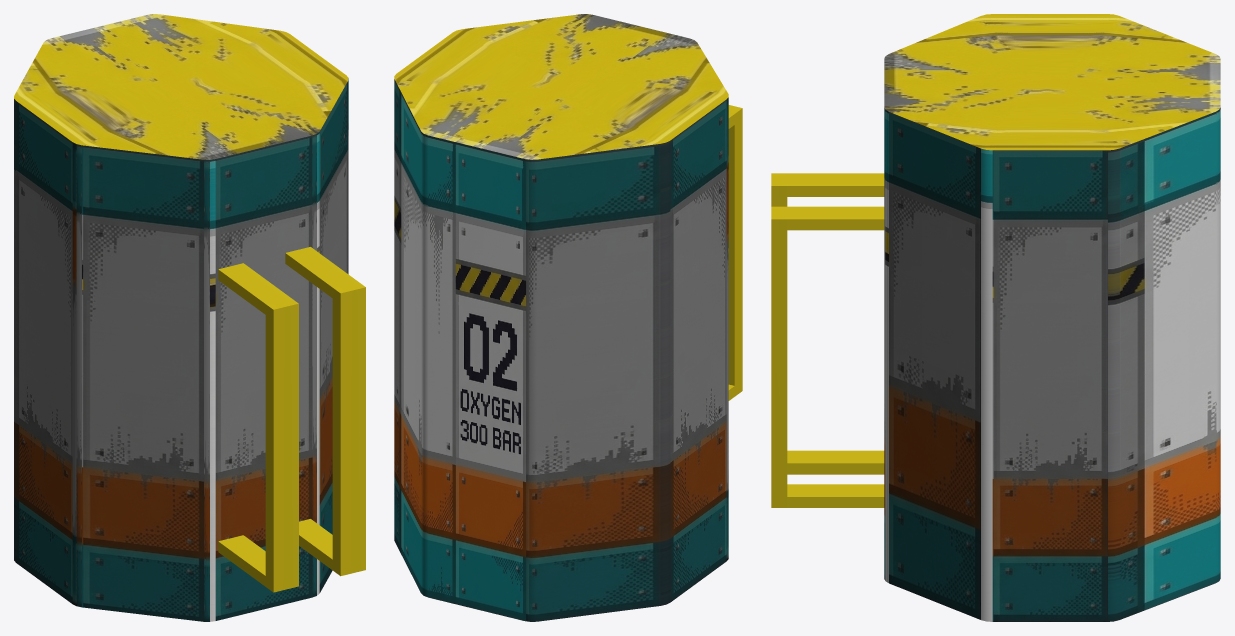
File: Oxygen_Tank.fbx
3 views of the same model, side by side, from view 1: azimuth 30°, elevation 25°; view 2: azimuth 150°, elevation 25°; view 3: azimuth 270°, elevation 25° (orthographic). The views are drawn at different scales.
Parts seen in each view (by area): view 1: pPlane10, pCube3, pCube2; view 2: pPlane10, pCube3; view 3: pPlane10, pCube2, pCube3.
Part boxes in pixels (x1=…): pPlane10: x1=14, y1=14, x2=348, y2=621; pCube3: x1=218, y1=263, x2=298, y2=592; pCube2: x1=285, y1=247, x2=365, y2=576; pPlane10: x1=394, y1=14, x2=728, y2=621; pCube3: x1=728, y1=105, x2=742, y2=400; pPlane10: x1=884, y1=14, x2=1220, y2=621; pCube2: x1=771, y1=206, x2=884, y2=507; pCube3: x1=771, y1=173, x2=884, y2=474.
Bounding box in the file's own units: 1.17 × 1.88 × 1.63.
